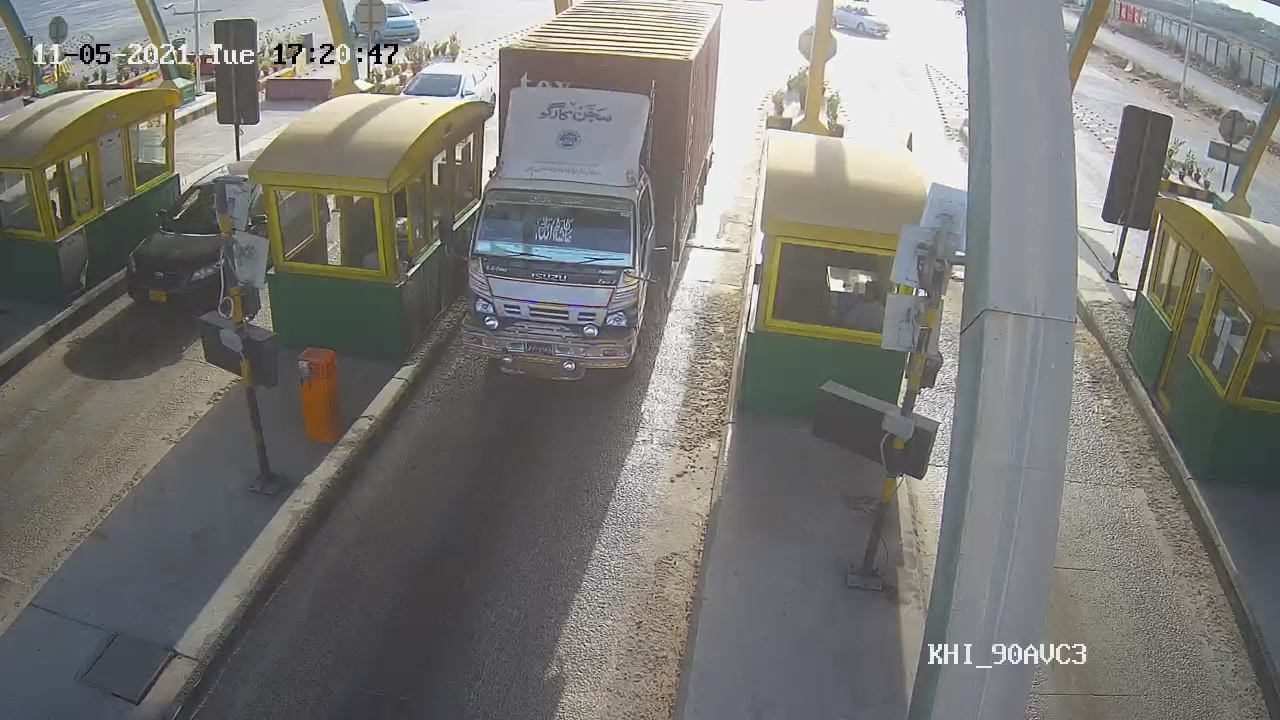F6: (460, 1, 729, 376)
